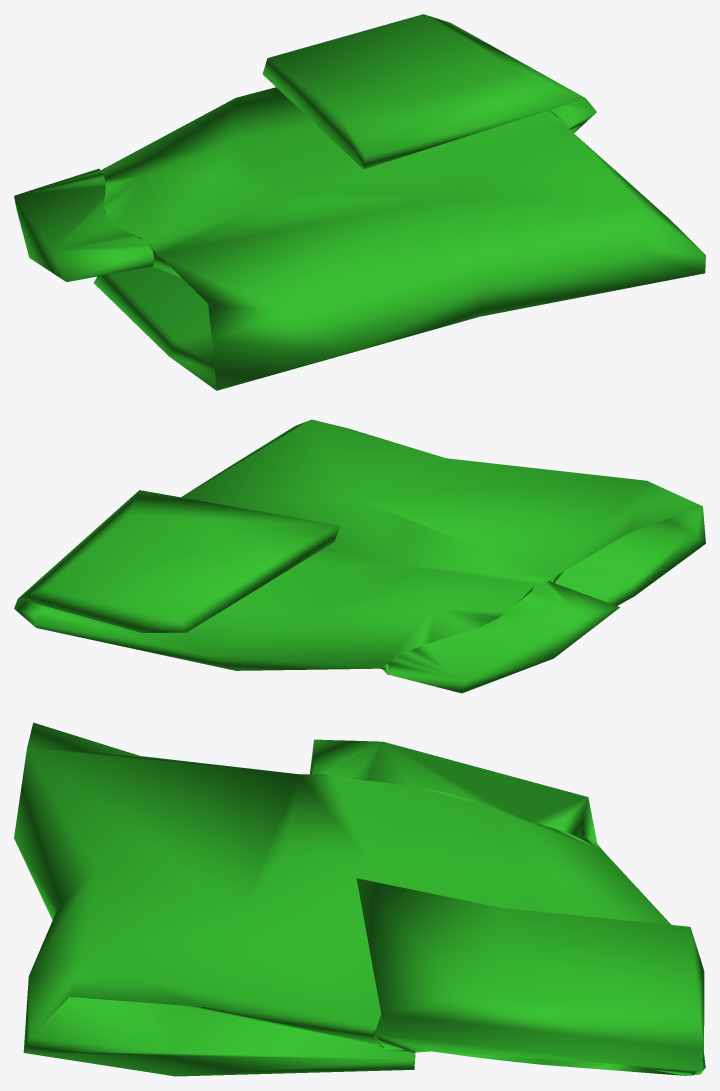
The model's file is MDL_CLGR_unfolded.fbx.
3 renders of one model, top to bottom at view 1: azimuth 30°, elevation 25°; view 2: azimuth 150°, elevation 25°; view 3: azimuth 270°, elevation 25°, orthographic. The views are drawn at different scales.
Visible parts, largest first — view 1: MDL_CL_unfolded; view 2: MDL_CL_unfolded; view 3: MDL_CL_unfolded.
Part boxes in pixels (x1,y1,x2,y2): MDL_CL_unfolded: [14, 14, 705, 390]; MDL_CL_unfolded: [14, 419, 705, 693]; MDL_CL_unfolded: [14, 722, 705, 1076].
Bounding box in the file's own units: 87.54 × 12.01 × 81.66.
